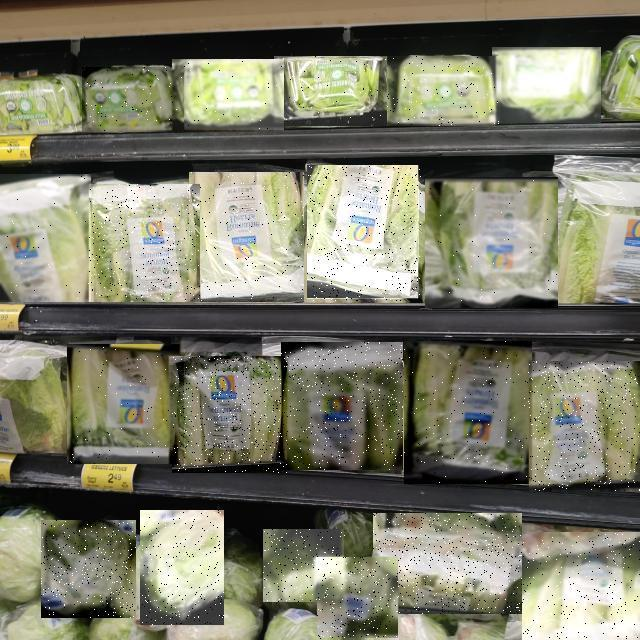Cabbage: (140, 510, 224, 625), (41, 520, 136, 618), (317, 558, 398, 640), (264, 529, 346, 602)
Lettuce: (404, 341, 532, 484), (425, 177, 558, 308), (281, 343, 403, 471), (308, 166, 422, 302), (373, 513, 522, 614), (189, 173, 304, 303), (529, 362, 640, 492), (68, 344, 184, 464), (172, 356, 287, 473), (89, 184, 200, 302), (522, 532, 640, 640), (0, 174, 91, 302), (492, 47, 601, 123), (274, 56, 390, 126), (172, 60, 284, 132), (388, 56, 500, 126), (82, 67, 184, 132)
